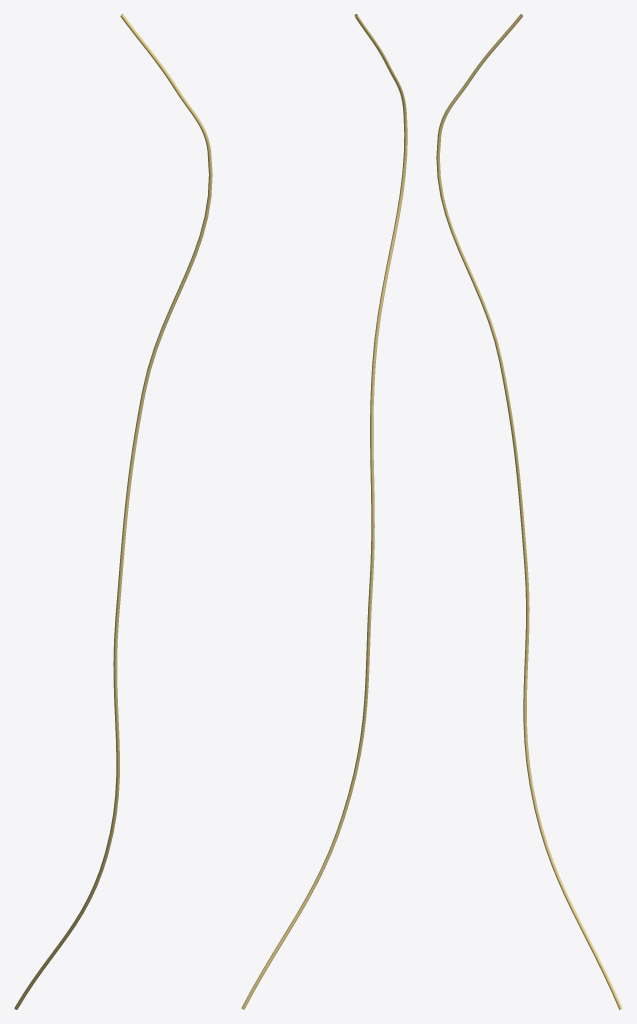
3 views of the same model, side by side, from view 1: azimuth 90°, elevation 25°; view 2: azimuth 150°, elevation 25°; view 3: azimuth 270°, elevation 25° (orthographic). The views are drawn at different scales.
Visible parts, largest first — view 1: ZA_2421b9ded43c3bfd; view 2: ZA_2421b9ded43c3bfd; view 3: ZA_2421b9ded43c3bfd.
Boxes of the visible parts, x1,y1,x2,y2 form: ZA_2421b9ded43c3bfd: [14, 14, 212, 1009]; ZA_2421b9ded43c3bfd: [241, 14, 407, 1009]; ZA_2421b9ded43c3bfd: [436, 14, 622, 1009].
Bounding box in the file's own units: 0.0274 × 0.3045 × 0.0532.
